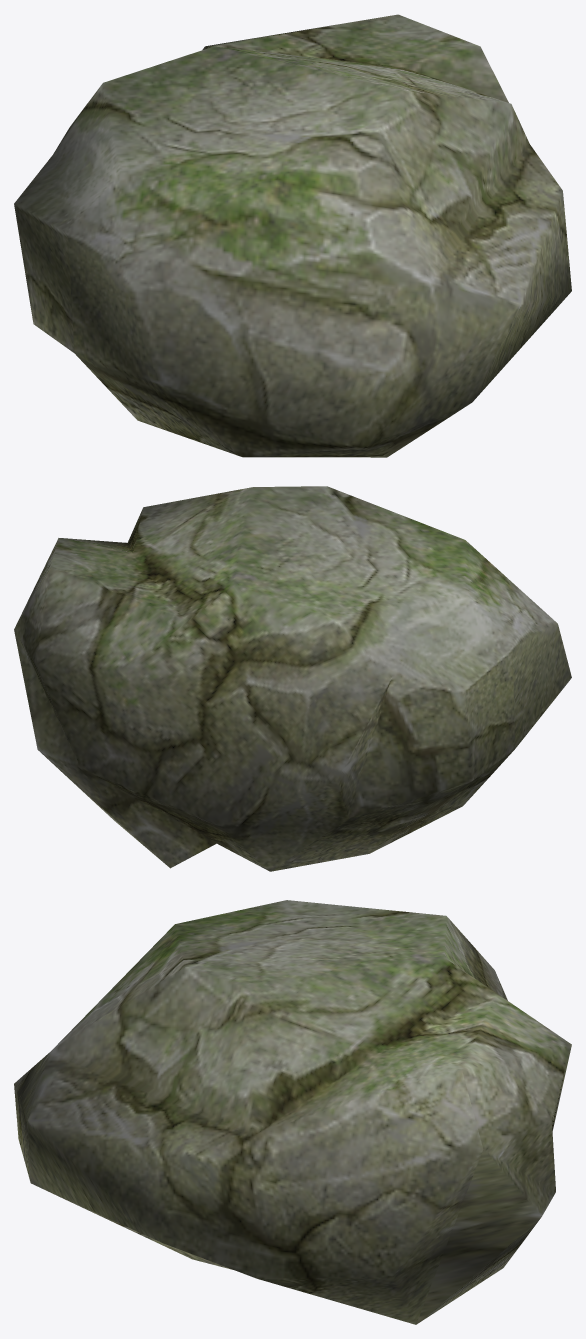
The model's file is GongYong_SuiShi_1.fbx.
3 views of the same model, one above another, from view 1: azimuth 30°, elevation 25°; view 2: azimuth 150°, elevation 25°; view 3: azimuth 270°, elevation 25° (orthographic). The views are drawn at different scales.
Visible parts, largest first — view 1: GongYong_SuiShi_1; view 2: GongYong_SuiShi_1; view 3: GongYong_SuiShi_1.
Part boxes in pixels (x1,y1,x2,y2): GongYong_SuiShi_1: (14,14,571,457); GongYong_SuiShi_1: (14,486,571,871); GongYong_SuiShi_1: (14,900,571,1324).
Size of the model in its own units: 125 by 80.56 by 129.
